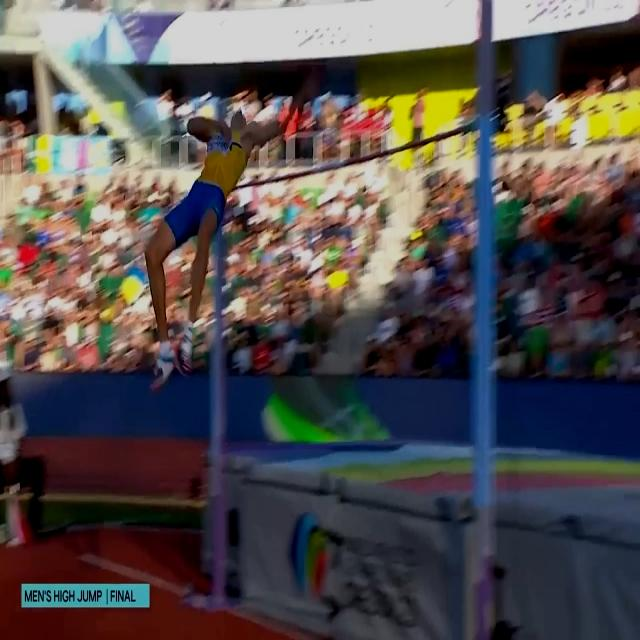jump: (143, 66, 315, 392)
